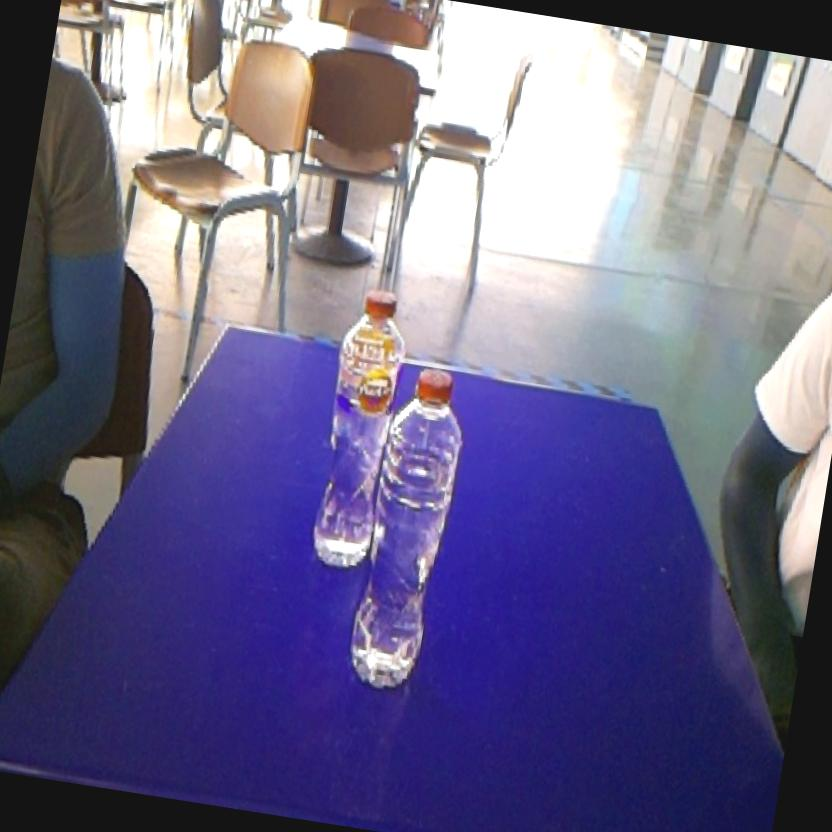good: (324, 276, 419, 419)
no_label: (336, 354, 480, 702)
